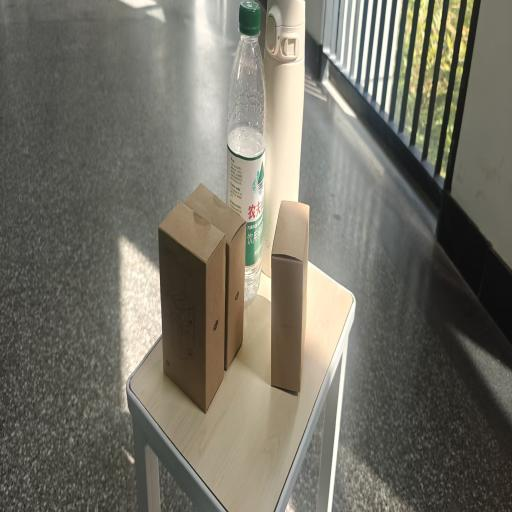bottle: (261, 0, 306, 277), (226, 0, 266, 301)
box: (158, 202, 226, 412), (184, 183, 246, 370), (271, 200, 309, 393)
